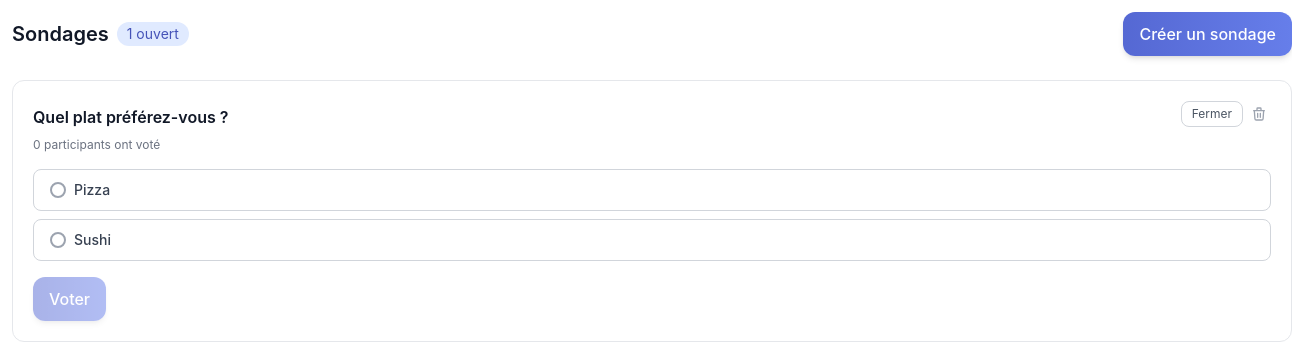
Test case: EventPollsTab › removes a poll from the list when it is deleted
Expected: the text "Quel plat préférez-vous ?" is shown, top-left (33, 107), bottom-right (228, 127)
What coordinates should you click on to do the following:
click the button named "Supprimer le sondage"
I would click on:
 (1259, 114)
Its box is top-left (1247, 102), bottom-right (1271, 126).
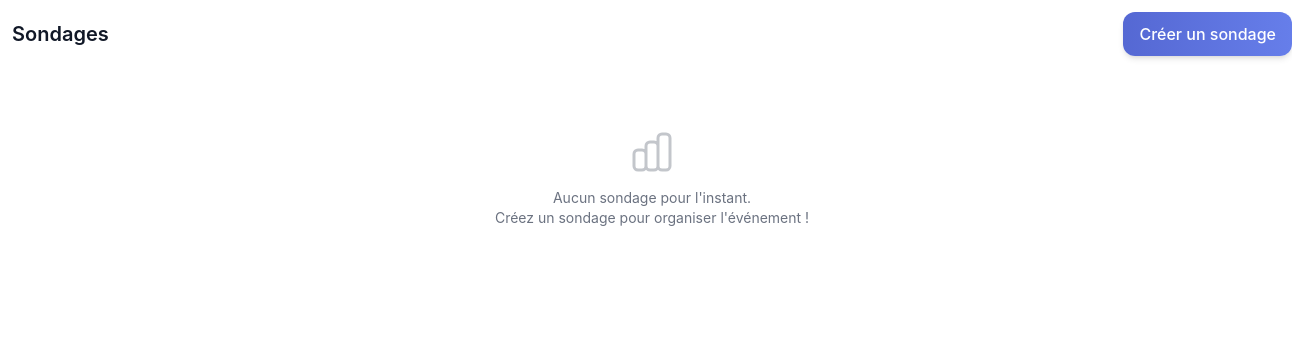
Expected: the text "Quel plat préférez-vous ?" is gone
Expected: the text "Aucun sondage pour l'instant." is shown, top-left (553, 189), bottom-right (751, 206)
